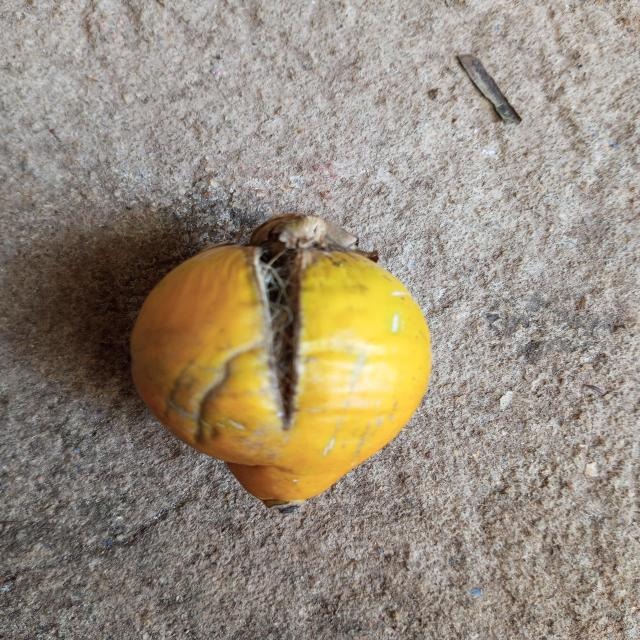damaged: (129, 217, 432, 510)
